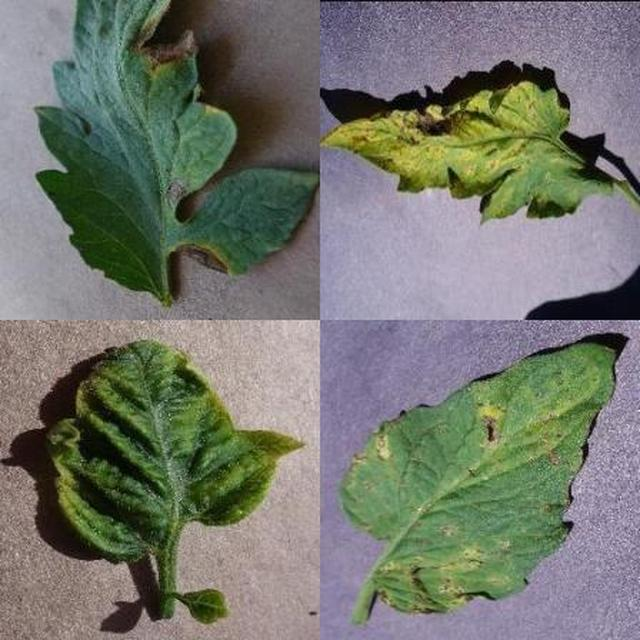Early Blight Leaf: (252, 204, 640, 640)
